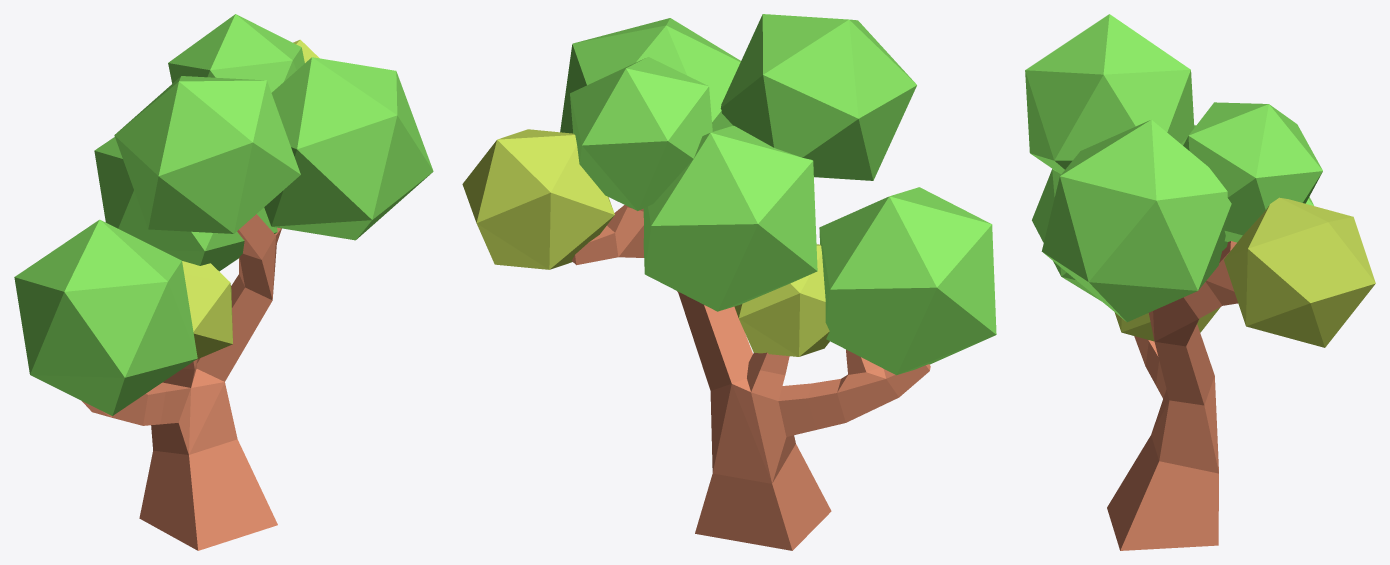
The model's file is Tree 9.fbx.
The picture shows the model from 3 angles, left to right: view 1: azimuth 30°, elevation 25°; view 2: azimuth 150°, elevation 25°; view 3: azimuth 270°, elevation 25°; orthographic projection. The views are drawn at different scales.
Parts seen in each view (by area): view 1: Tree 9; view 2: Tree 9; view 3: Tree 9.
Part boxes in pixels (box(x1,y1,x2,y2)): Tree 9: box(14, 14, 433, 550); Tree 9: box(462, 14, 996, 550); Tree 9: box(1025, 14, 1375, 550).
Size of the model in its own units: 521 by 569 by 373.
